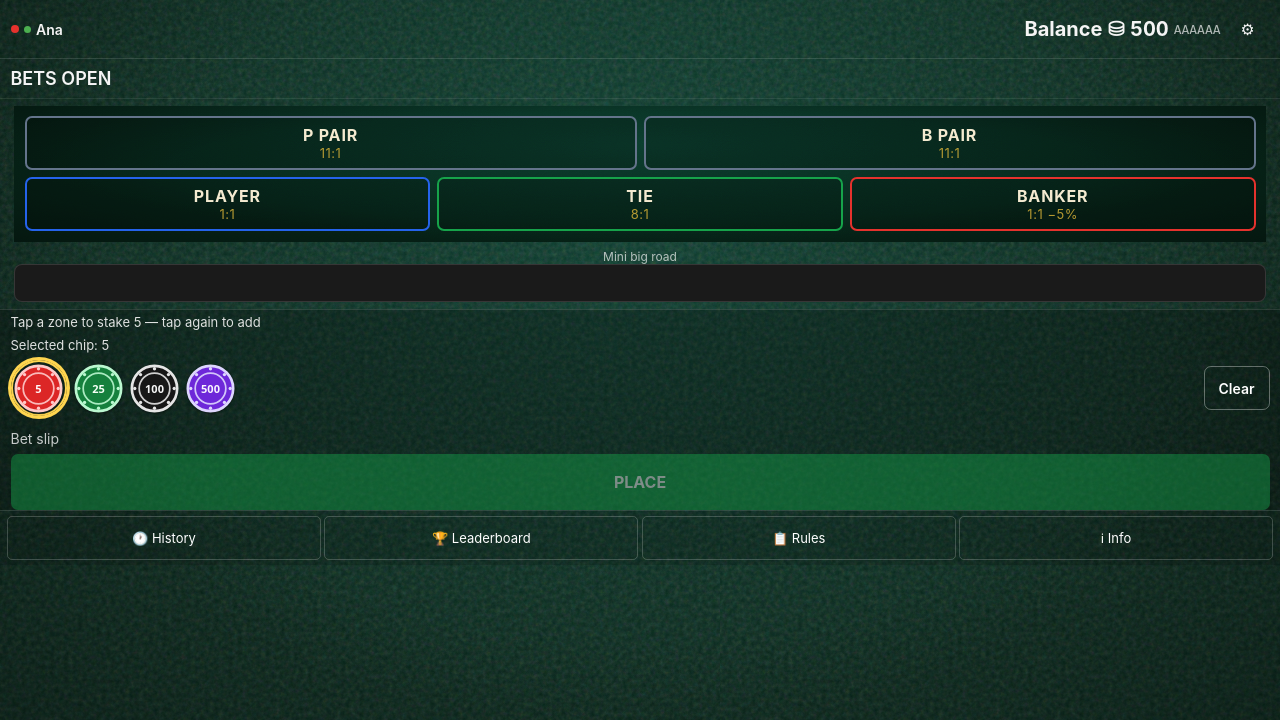
Test: PlayerShell › shows fairness commitment on virtual table info tab
This screenshot has width=1280, height=720.
Click the tab with aria-label "Information" at (1116, 538), box [959, 516, 1273, 560]
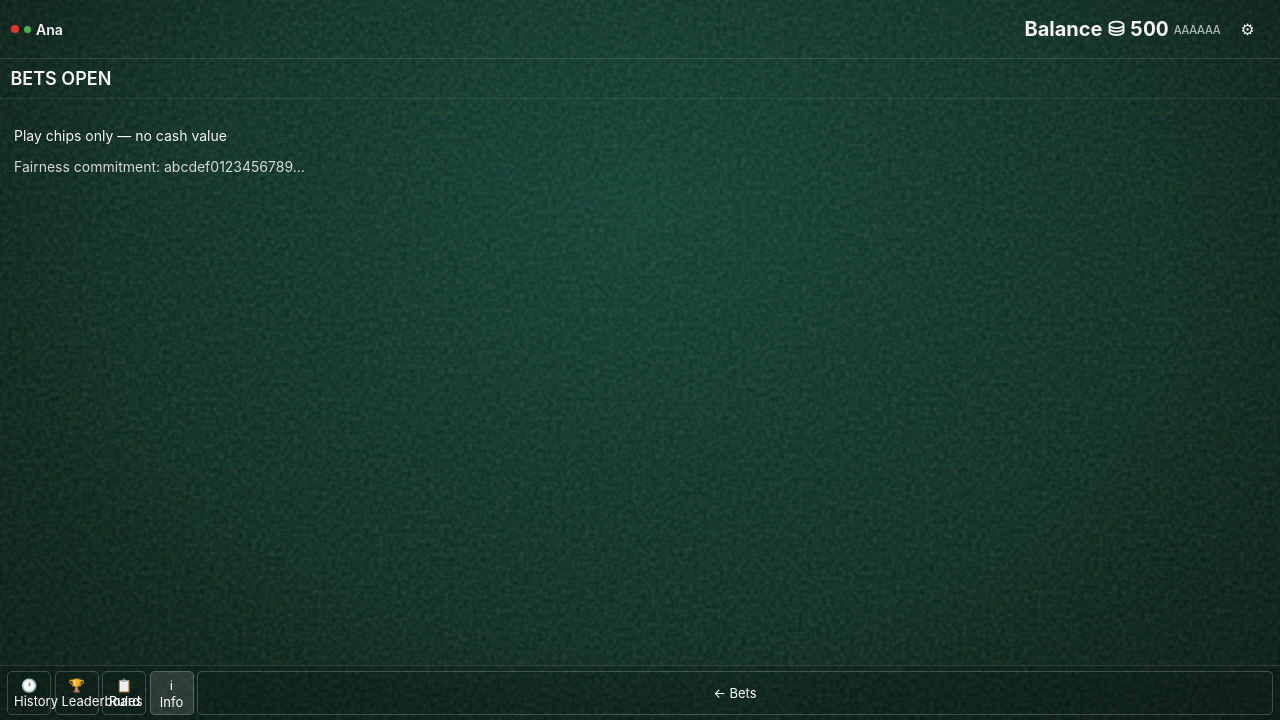
Now the text with test id "player-fairness-commit" shows "abcdef0123456789", box [164, 158, 293, 174]
